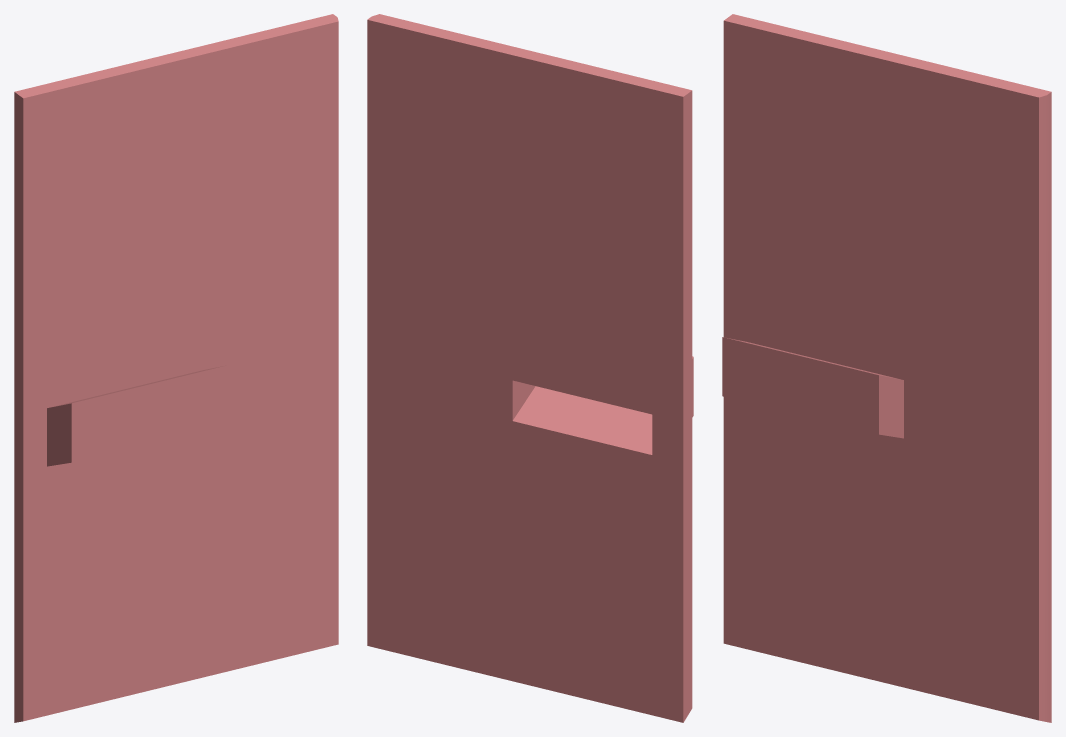
File: OuterUnit-MainHatch.fbx
3 renders of one model, left to right at view 1: azimuth 30°, elevation 25°; view 2: azimuth 150°, elevation 25°; view 3: azimuth 330°, elevation 25°, orthographic.
Visible parts, largest first — view 1: AirPump-Hatch; view 2: AirPump-Hatch; view 3: AirPump-Hatch.
Boxes of the visible parts, x1,y1,x2,y2 form: AirPump-Hatch: [14, 14, 338, 722]; AirPump-Hatch: [367, 14, 693, 722]; AirPump-Hatch: [722, 14, 1051, 722].
Bounding box in the file's own units: 40.7 × 77 × 7.5.
